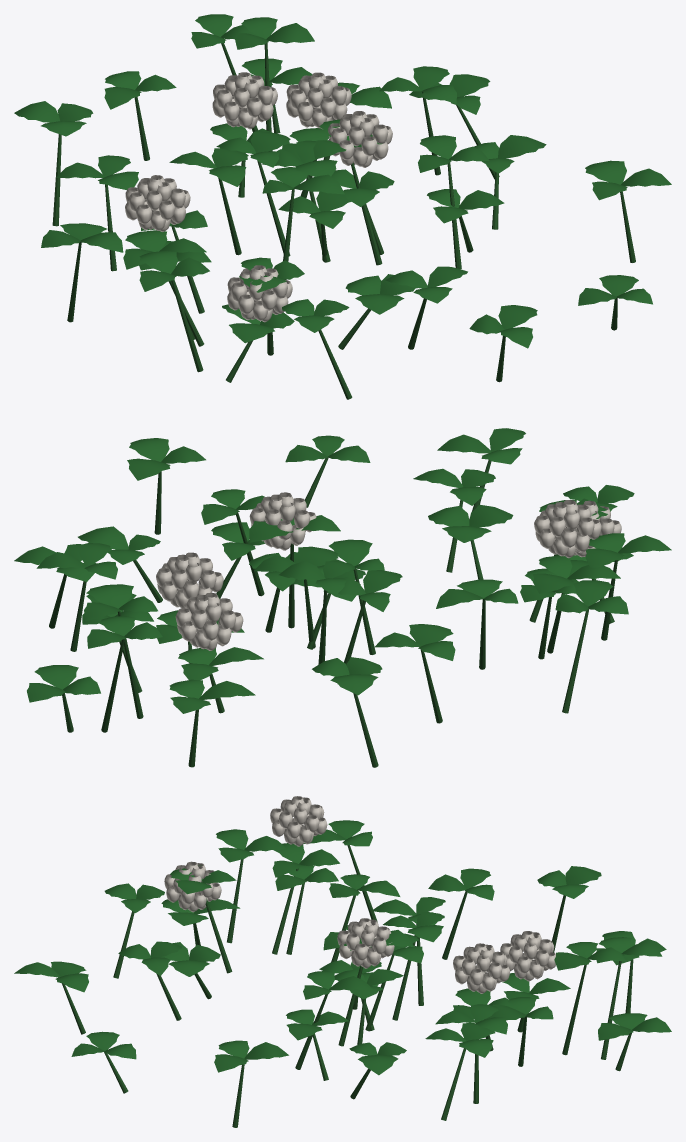
The model's file is detail_clover.glb.
The picture shows the model from 3 angles, top to bottom: view 1: azimuth 30°, elevation 25°; view 2: azimuth 150°, elevation 25°; view 3: azimuth 270°, elevation 25°; orthographic projection. The views are drawn at different scales.
Parts seen in each view (by area): view 1: CurvedCloverLeaves; view 2: CurvedCloverLeaves, Cone.010, Cone.006; view 3: CurvedCloverLeaves.
Boxes of the visible parts, bbox=[...] form: CurvedCloverLeaves: bbox=[14, 14, 671, 348]; CurvedCloverLeaves: bbox=[14, 428, 671, 713]; Cone.010: bbox=[562, 608, 589, 713]; Cone.006: bbox=[101, 639, 124, 732]; CurvedCloverLeaves: bbox=[14, 820, 671, 1075].
Bounding box in the file's own units: 1.4 × 0.3978 × 1.66.
